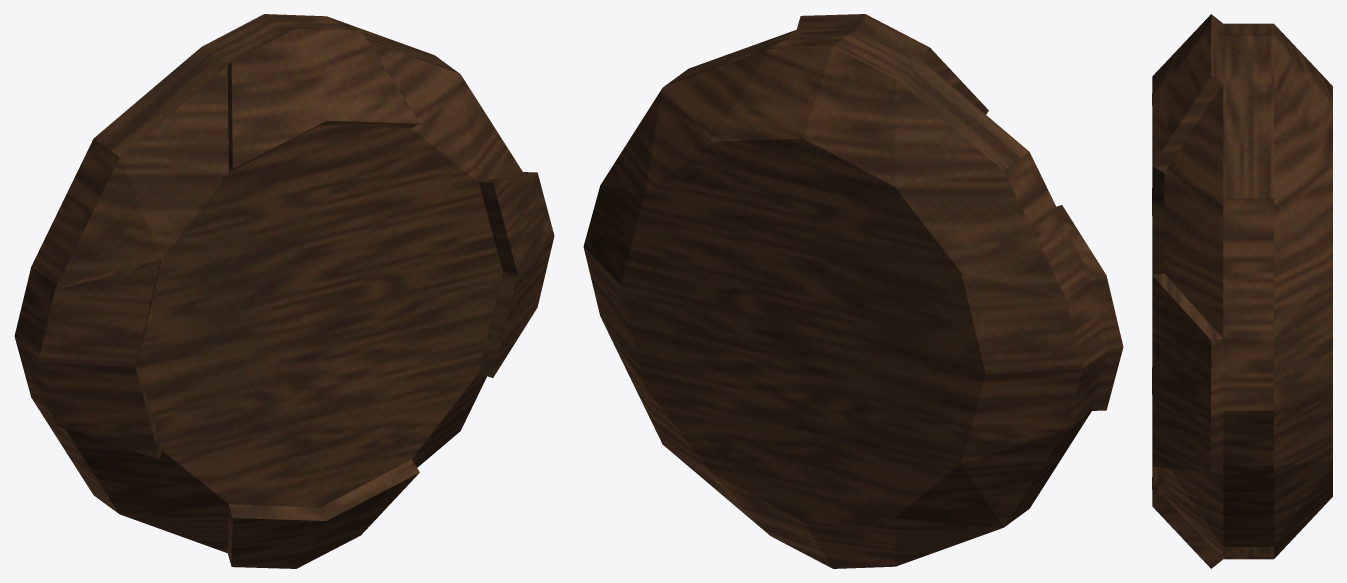
Rendered from Wallclock02.fbx.
The picture shows the model from 3 angles, left to right: view 1: azimuth 30°, elevation 25°; view 2: azimuth 150°, elevation 25°; view 3: azimuth 270°, elevation 25°; orthographic projection. The views are drawn at different scales.
Parts seen in each view (by area): view 1: Wallclock02; view 2: Wallclock02; view 3: Wallclock02.
Part boxes in pixels (left/top/right/bottom): Wallclock02: left=14, top=14, right=554, bottom=568; Wallclock02: left=583, top=14, right=1123, bottom=568; Wallclock02: left=1152, top=14, right=1332, bottom=568.
Size of the model in its own units: 0.4714 by 0.4714 by 0.1463.
1 material, 1 textured.
